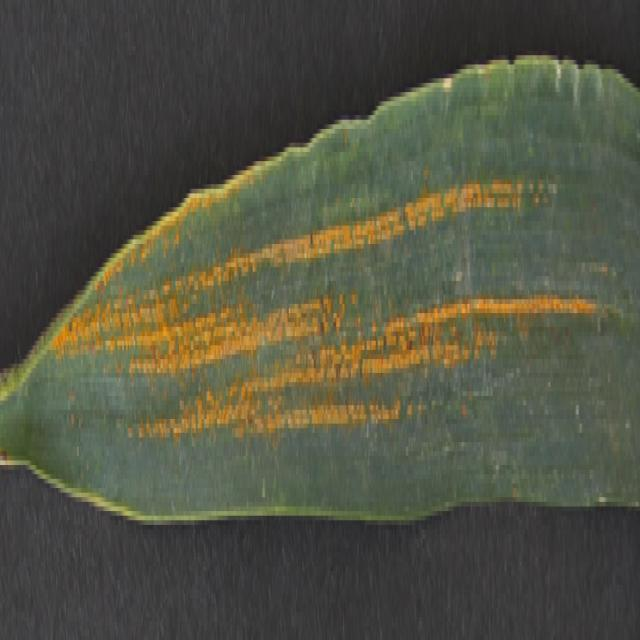leaf rust: (60, 147, 614, 456)
